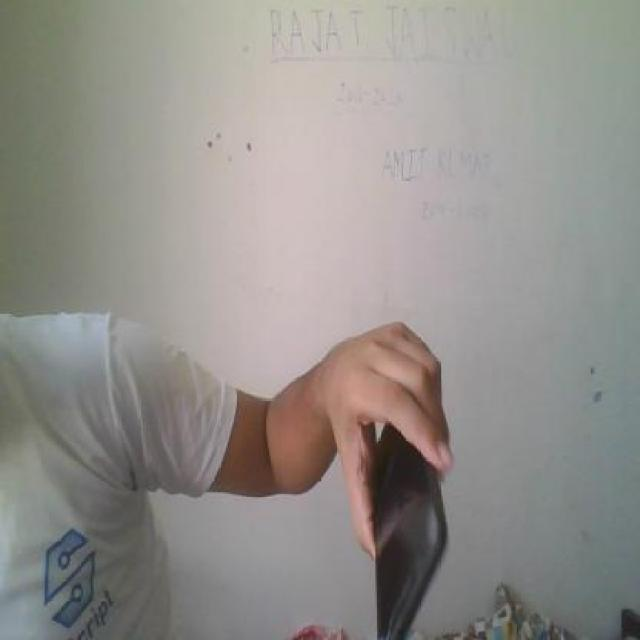Phone: (370, 429, 450, 640)
